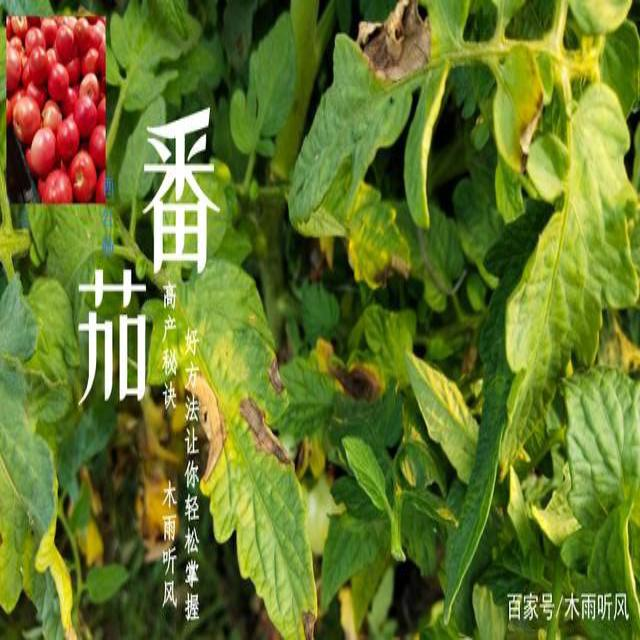Leaf_Mold: (160, 327, 300, 492), (343, 1, 441, 94), (308, 332, 393, 405), (495, 52, 545, 172), (343, 230, 411, 294)
